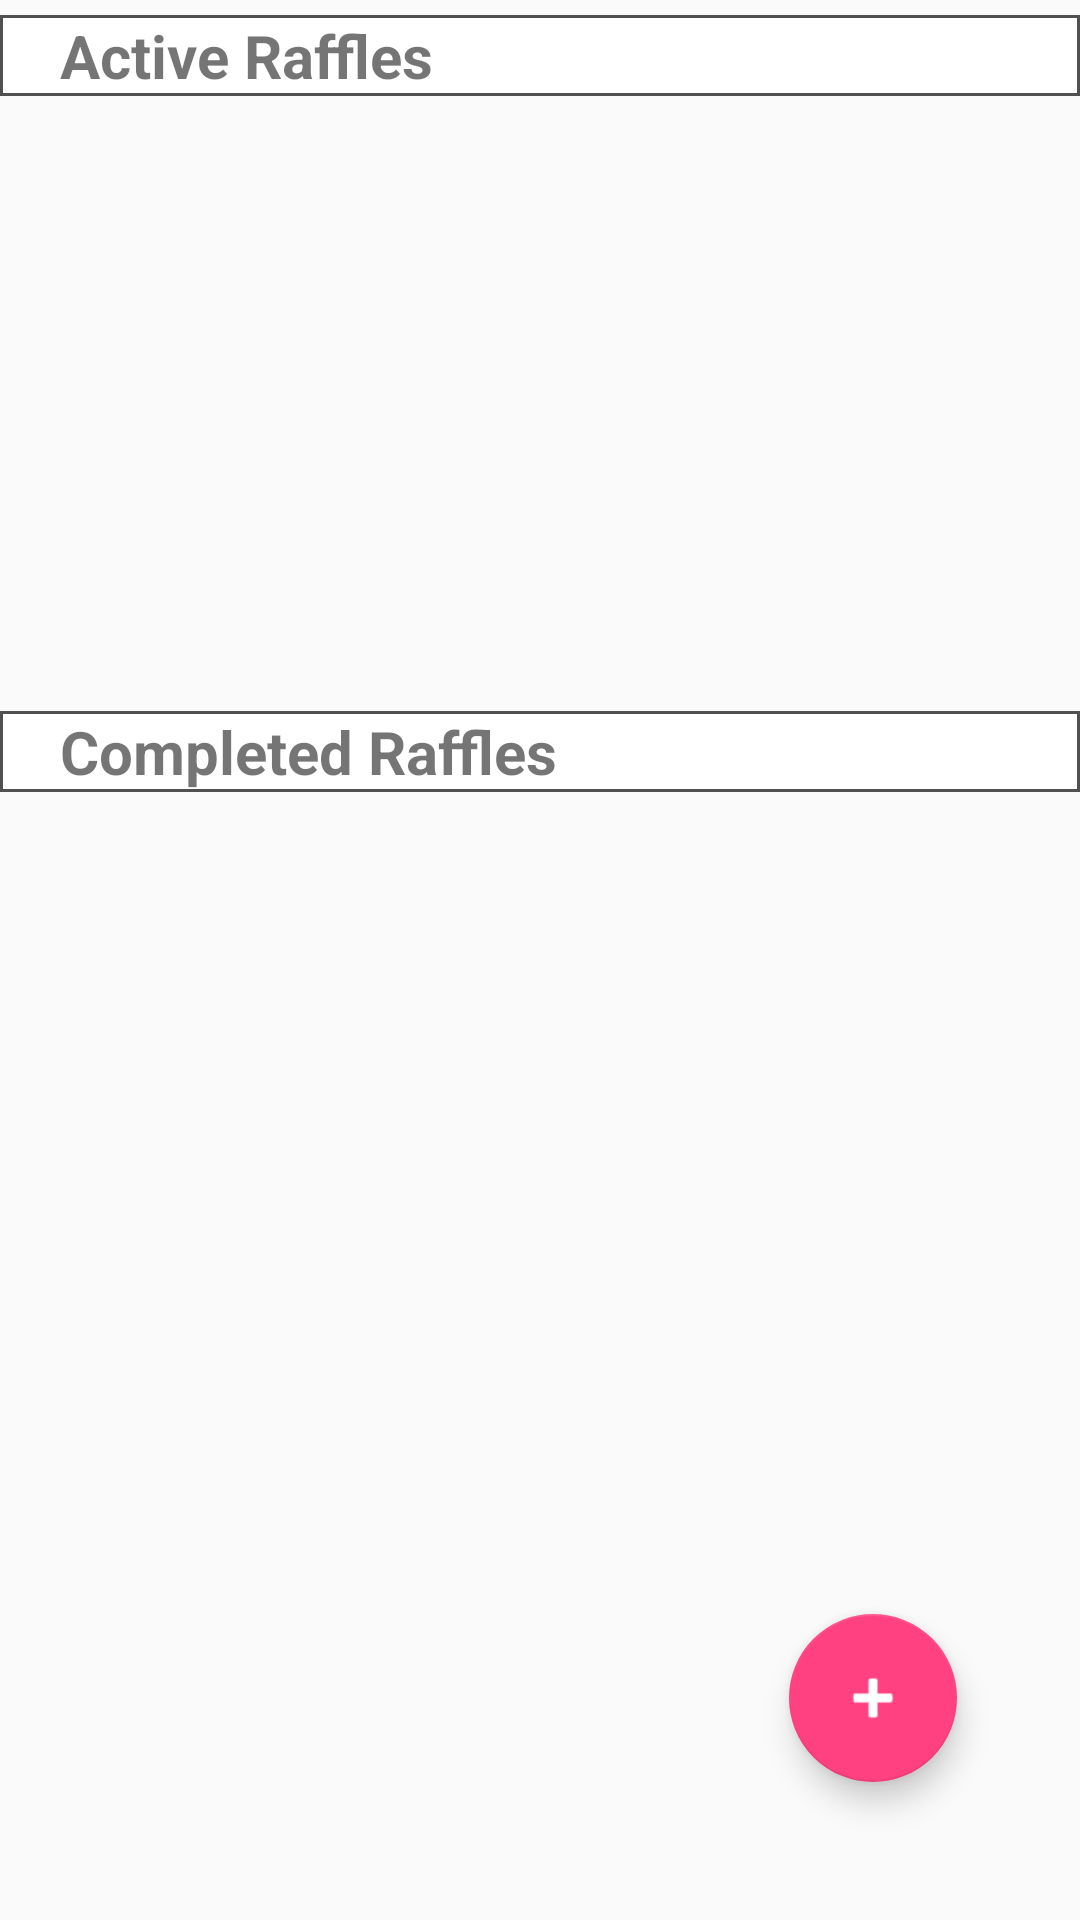

Icon bounding boxes for this 1080×1920 phone screenshot, format (x1, y1, x2, y2):
add: (789, 1614, 957, 1782)
